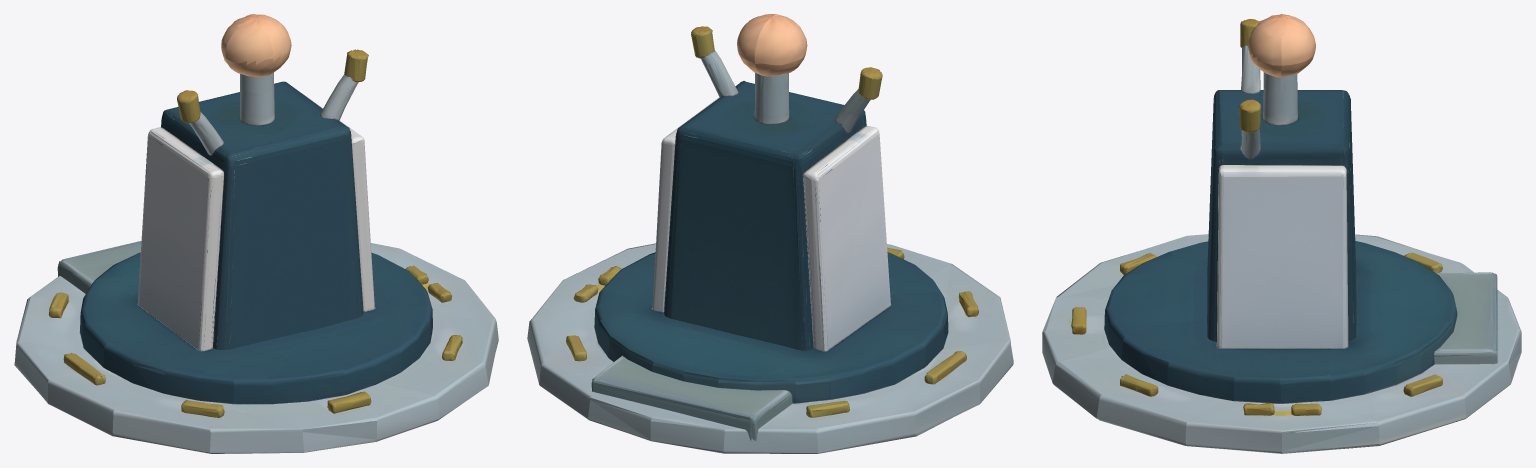
The model's file is strategic-node.glb.
3 renders of one model, left to right at view 1: azimuth 30°, elevation 25°; view 2: azimuth 150°, elevation 25°; view 3: azimuth 270°, elevation 25°, orthographic.
Bounding box in the file's own units: 1 × 0.7715 × 1.
1 material, 1 textured.
